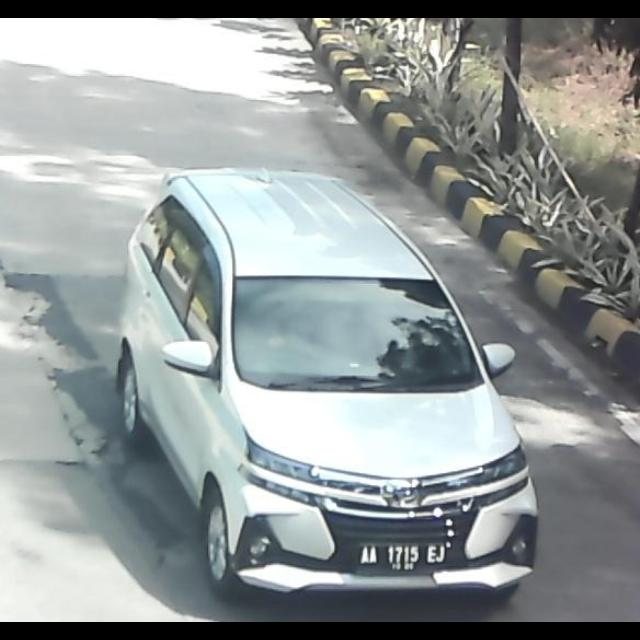plate: (357, 540, 449, 576)
